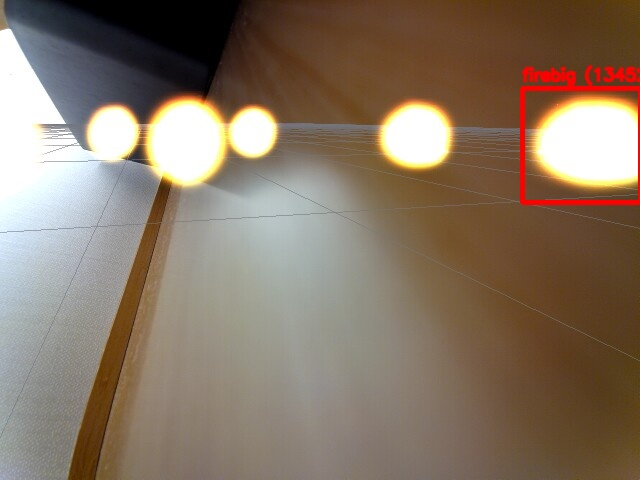firebig: (522, 88, 640, 202)
